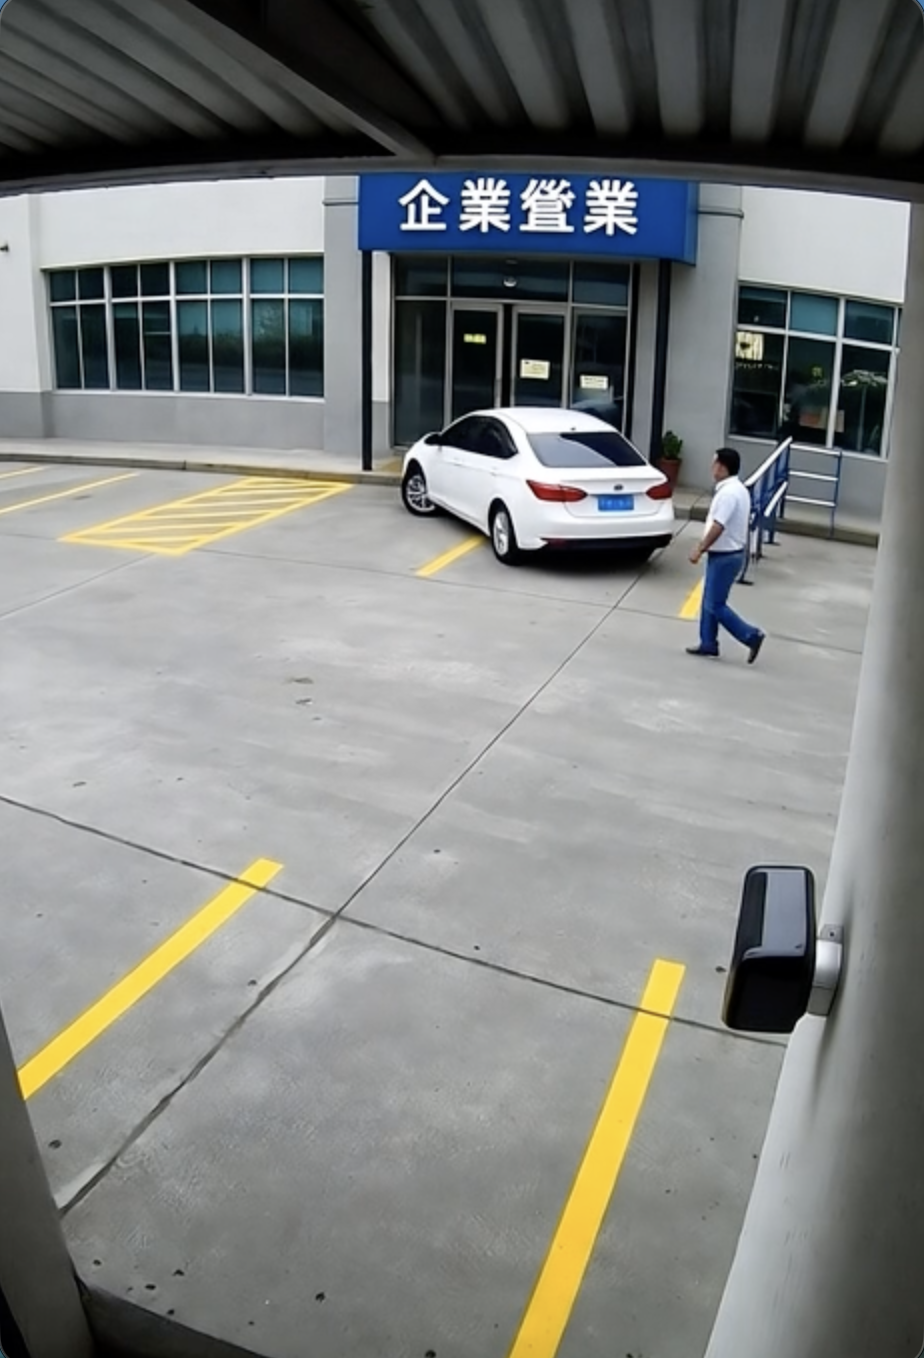weapon: (686, 448, 769, 667)
